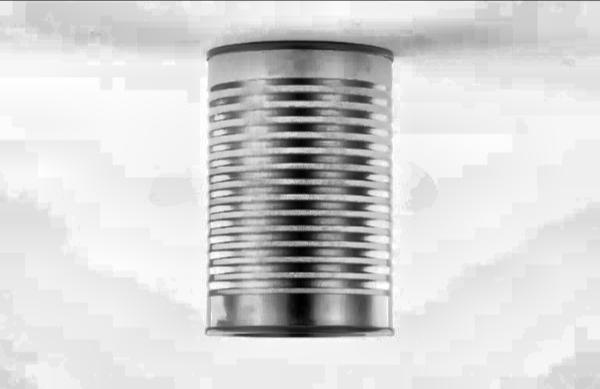can: (193, 26, 425, 354)
